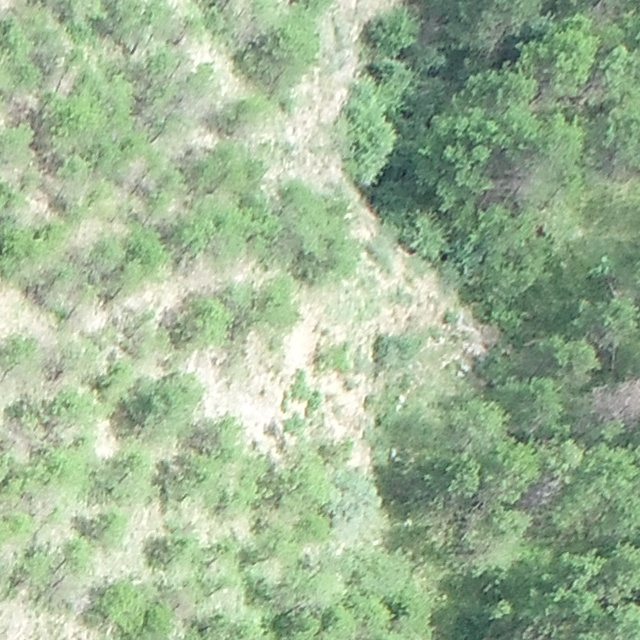unhealthy: (482, 156, 537, 207), (591, 375, 640, 428), (520, 474, 564, 509)
